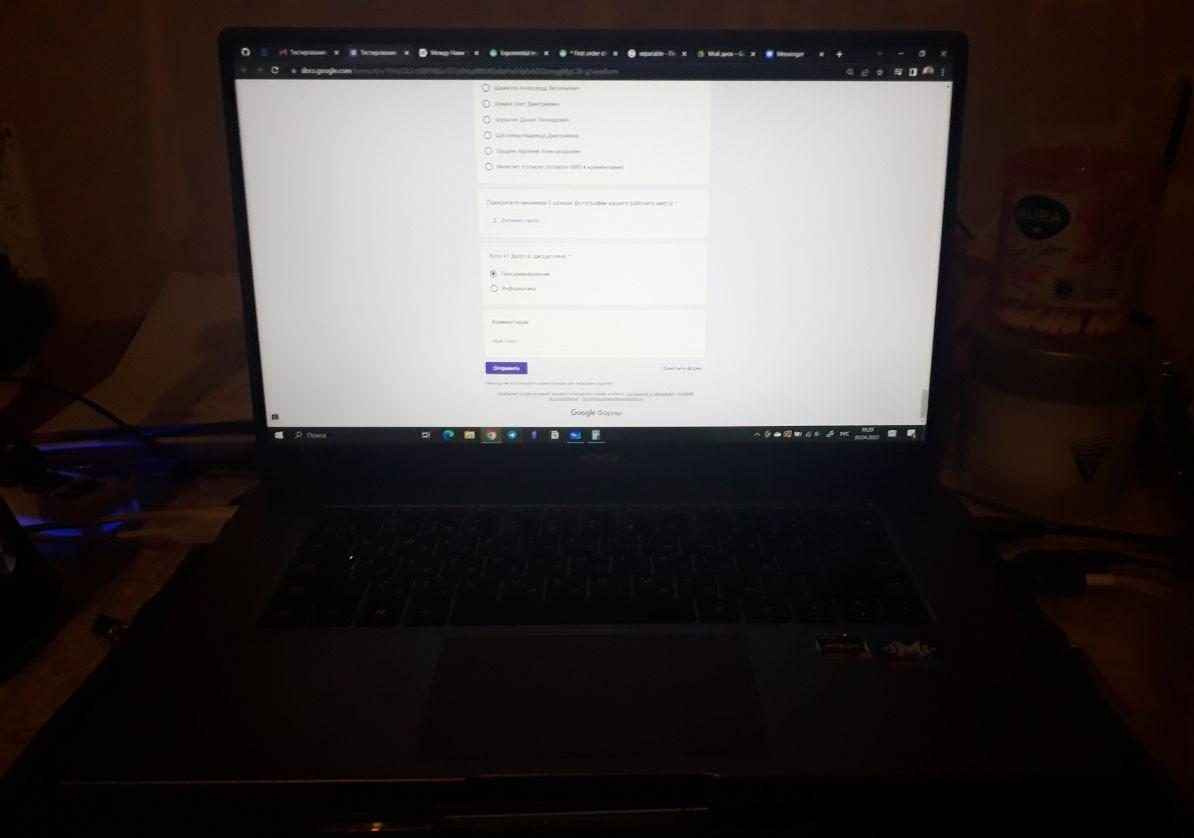monitor: (218, 27, 970, 486)
